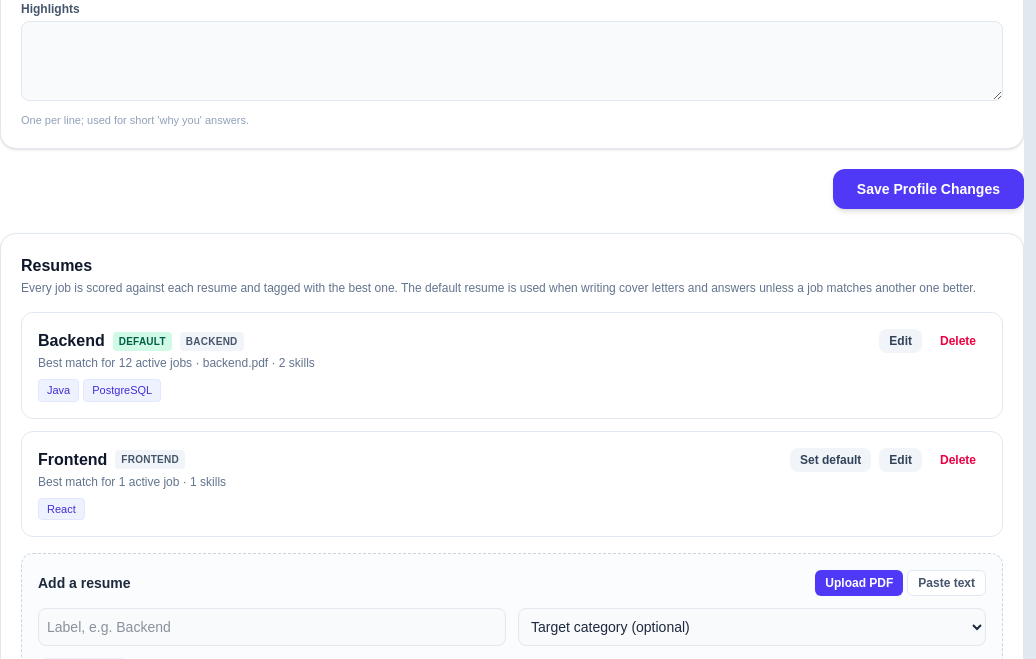
Test: ProfileManager › sets a default and deletes with inline confirmation, surfacing server errors
(page scrolled)
Expected: the number of list items with test id "resume-item" is 2, [21, 312, 1003, 418]; [21, 430, 1003, 537]
Click the button "Set default". click: coordinates (831, 460)
box: [790, 448, 871, 472]
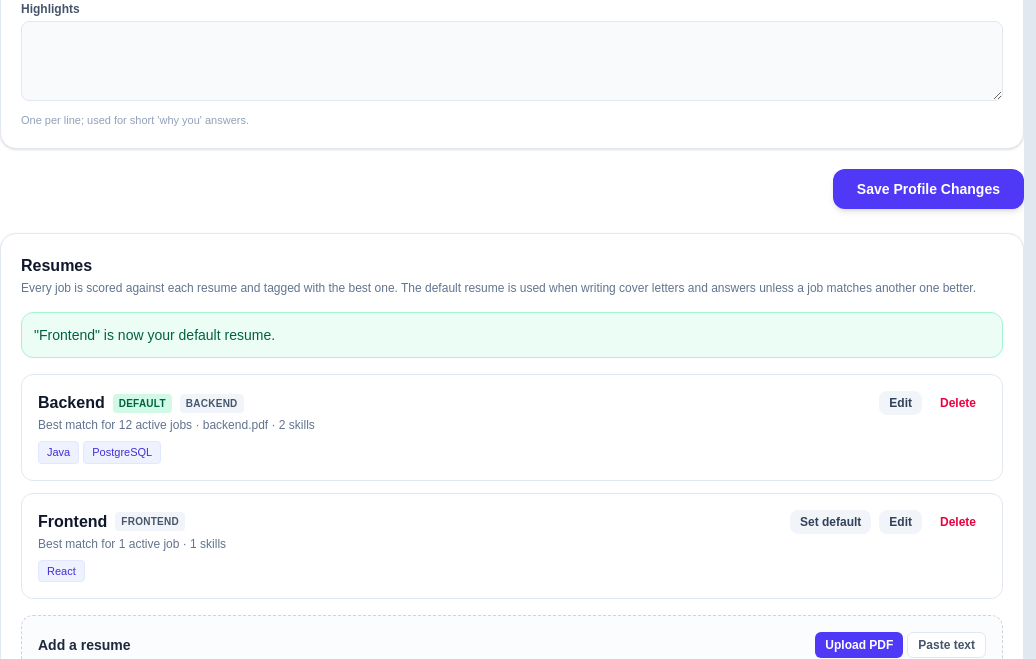
Expected: the text "\"Frontend\" is now your default resume." is shown, [21, 312, 1003, 358]
Click the 1st button "Delete". click: coordinates (958, 403)
box: [930, 391, 986, 415]
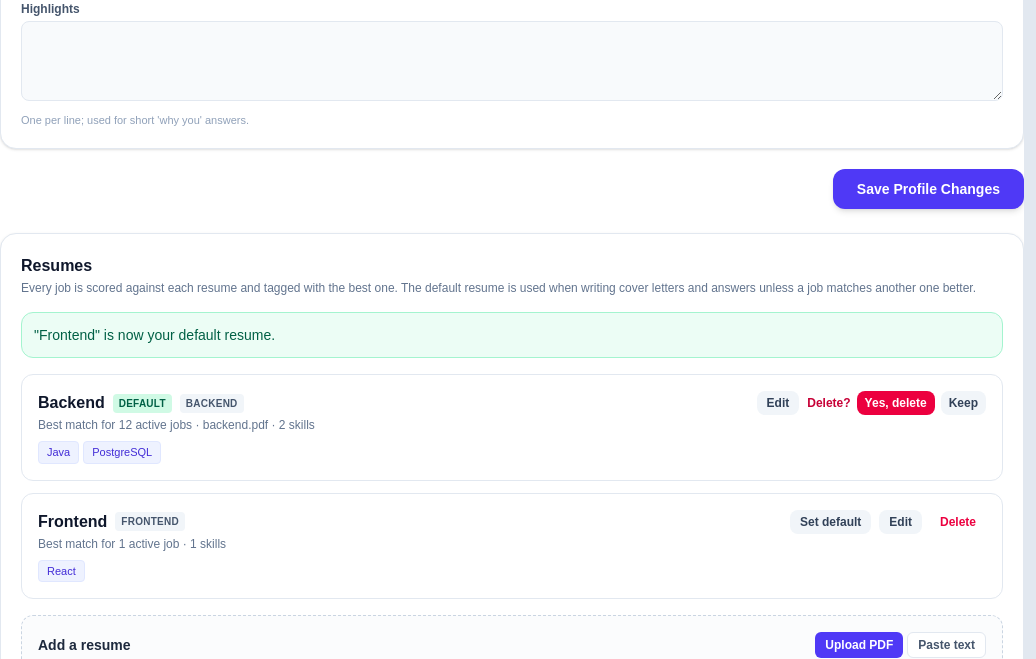
Click the button "Yes, delete". click: coordinates (896, 403)
box: [857, 391, 935, 415]
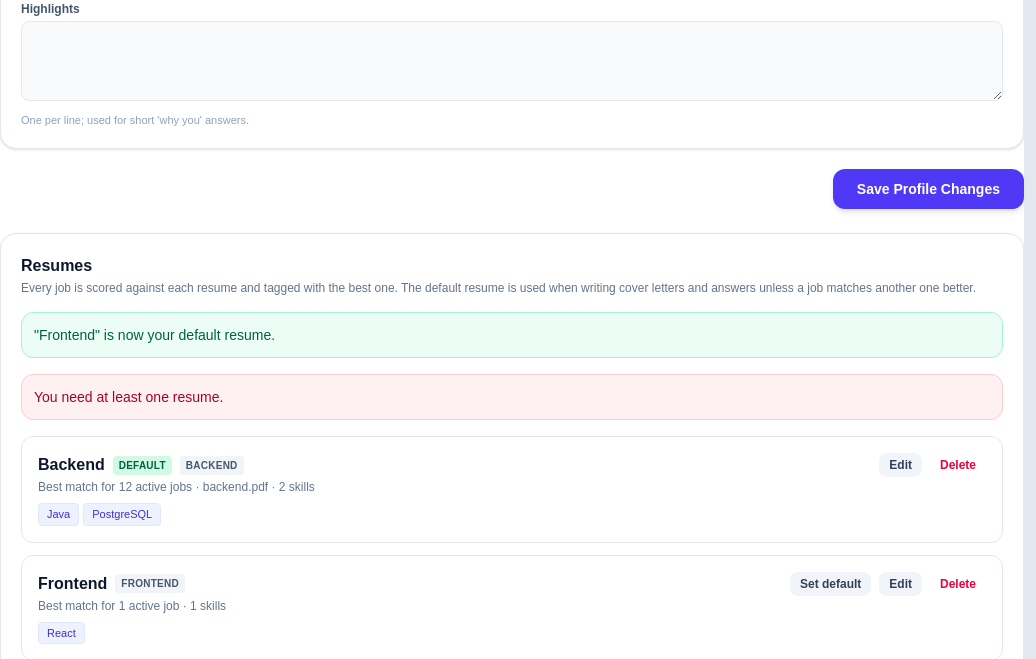
Expected: the text "You need at least one resume." is shown, [21, 374, 1003, 420]
